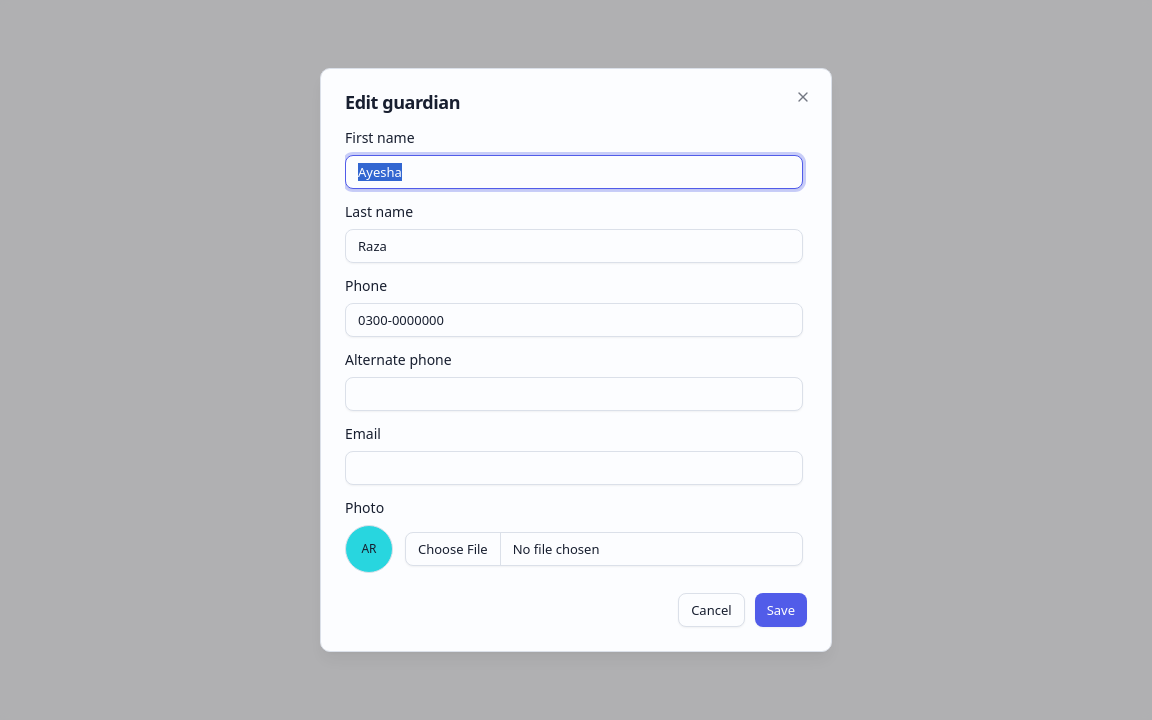
Test case: GuardianFormDialog › shows the server's real error when saving fails
Replace the text in the field labelled "Phone" with "bad" at (574, 320), box [345,303,803,337]
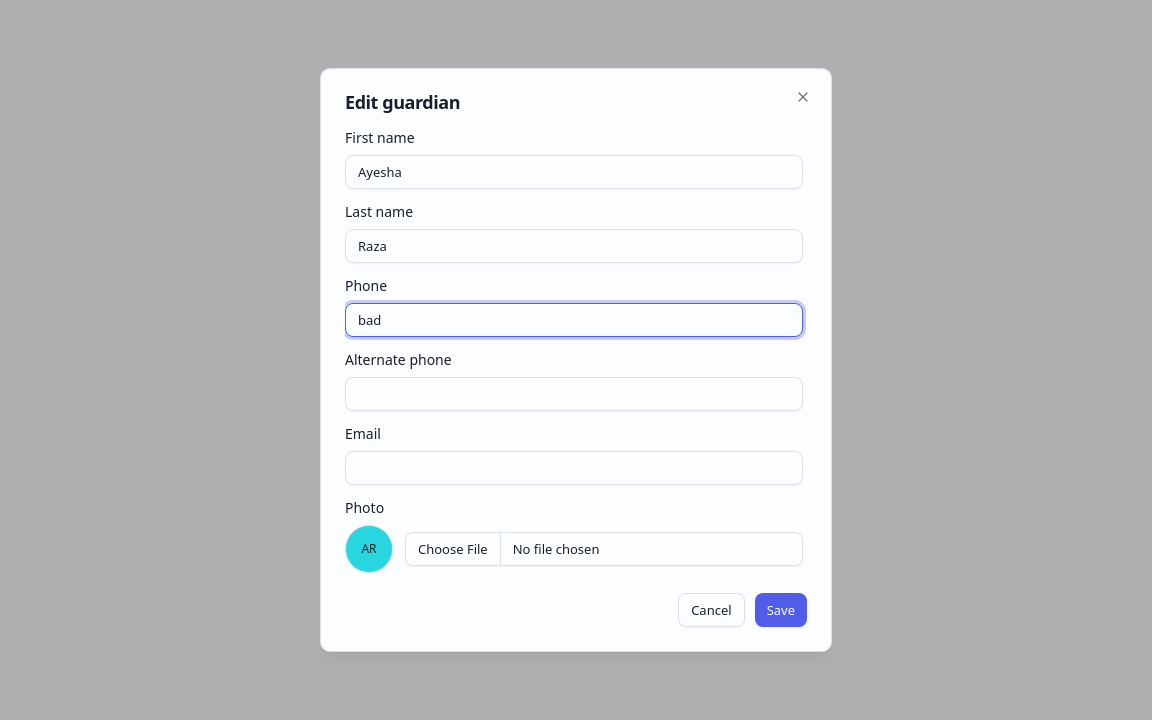
Click the button "Save".
click(781, 610)  # box [755,593,807,627]
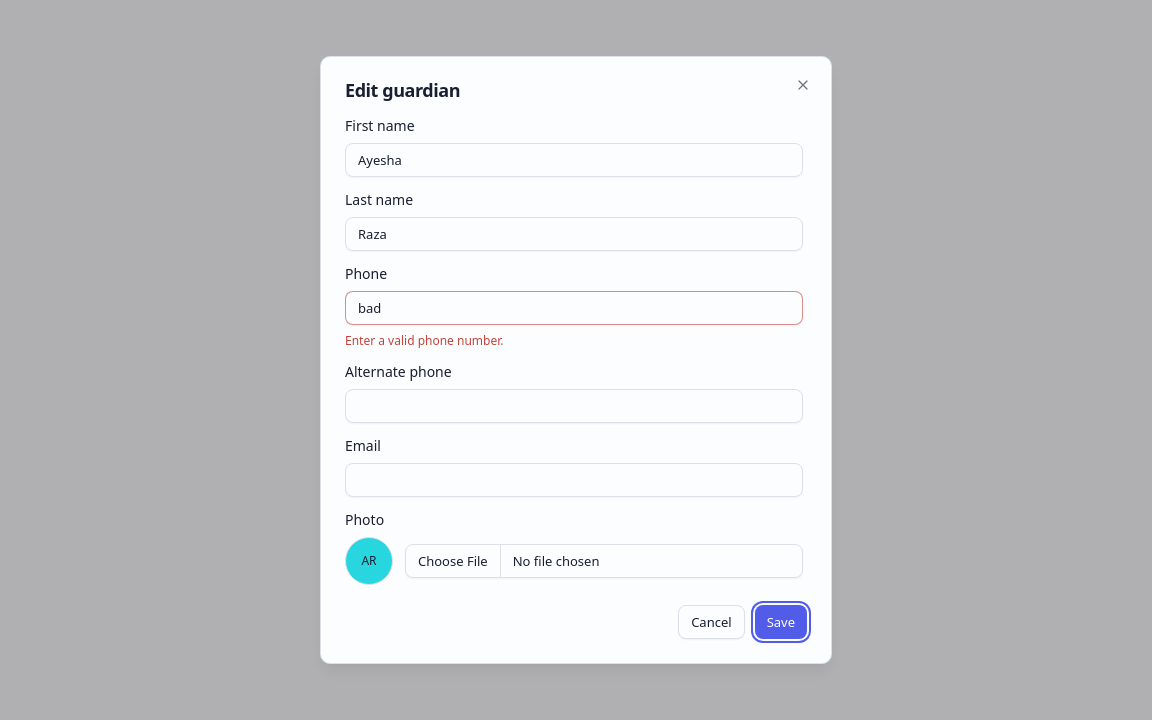
Check: the text "Enter a valid phone number." is shown, box [345,332,504,349]
